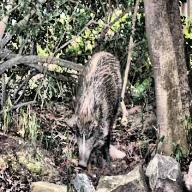boar: (68, 46, 127, 187)
